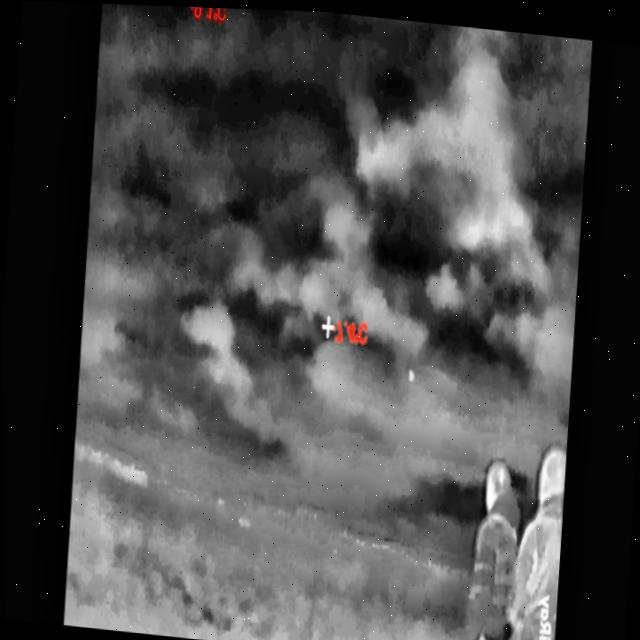drone: (406, 361, 415, 383)
